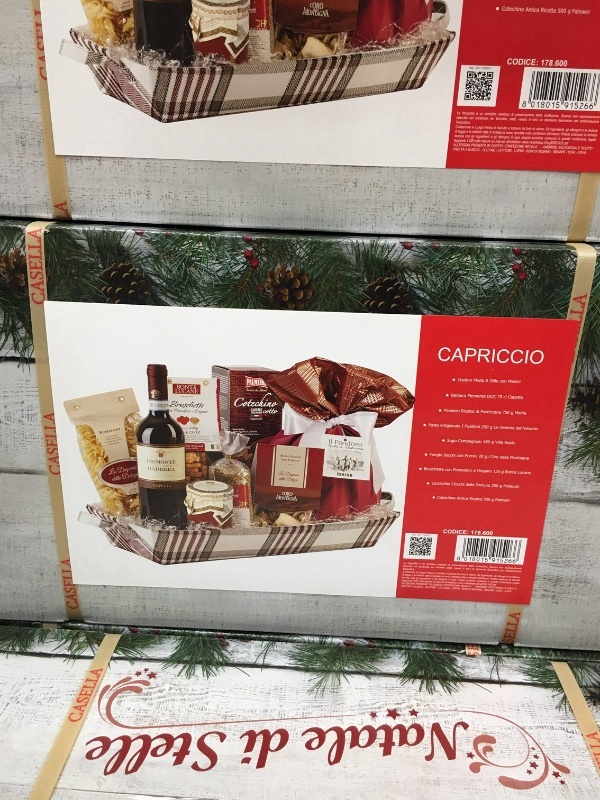text: (529, 370, 545, 506), (433, 370, 448, 506), (449, 370, 464, 506), (465, 370, 480, 506), (481, 370, 496, 506), (497, 370, 512, 506), (513, 370, 528, 506), (423, 370, 432, 506), (113, 425, 128, 498), (34, 7, 48, 83), (33, 227, 45, 312), (97, 730, 112, 798), (113, 730, 128, 798), (129, 730, 144, 798), (145, 730, 160, 798), (161, 730, 176, 798), (177, 730, 192, 798), (193, 730, 208, 798), (209, 730, 224, 798), (99, 425, 112, 498), (129, 425, 141, 498), (177, 400, 192, 456), (193, 400, 208, 456), (305, 723, 320, 779), (321, 723, 336, 779), (337, 723, 352, 779), (353, 723, 368, 779), (369, 723, 384, 779), (385, 723, 400, 779), (401, 723, 416, 779), (417, 723, 432, 779), (433, 723, 448, 779), (449, 723, 464, 779), (81, 668, 96, 723), (65, 558, 79, 612), (465, 109, 480, 158), (481, 109, 496, 158), (497, 109, 512, 158), (513, 109, 528, 158), (529, 109, 544, 158), (545, 109, 560, 158), (561, 109, 576, 158), (577, 109, 592, 158), (67, 668, 80, 723), (49, 413, 60, 476), (289, 449, 302, 502), (86, 730, 96, 798), (241, 731, 256, 776), (257, 731, 272, 776), (273, 731, 288, 776), (209, 400, 221, 456), (417, 561, 432, 595), (433, 561, 448, 595), (449, 561, 464, 595), (465, 561, 480, 595), (481, 561, 496, 595), (497, 561, 512, 595), (26, 227, 32, 312), (279, 449, 288, 502), (403, 561, 416, 595), (241, 408, 256, 436), (257, 408, 272, 436), (457, 109, 464, 158), (593, 109, 600, 158), (513, 561, 523, 595), (170, 400, 176, 456), (465, 723, 471, 779), (97, 668, 103, 723), (43, 413, 48, 476), (529, 348, 545, 366), (241, 389, 256, 408), (257, 389, 272, 408), (449, 348, 464, 366), (465, 348, 480, 366), (481, 348, 496, 366), (497, 348, 512, 366), (513, 348, 528, 366), (305, 1, 320, 19), (513, 612, 521, 645), (232, 408, 240, 436), (225, 730, 228, 798), (273, 408, 280, 436), (321, 1, 331, 19), (273, 389, 282, 408), (301, 723, 304, 779), (513, 56, 528, 67), (439, 348, 448, 366), (61, 558, 64, 612), (130, 483, 144, 494), (577, 101, 592, 111), (337, 439, 352, 448), (508, 612, 512, 645), (149, 402, 160, 413), (545, 101, 560, 109), (529, 56, 539, 67), (565, 101, 576, 111), (545, 60, 560, 67), (577, 8, 590, 16), (161, 402, 170, 413), (449, 529, 464, 535), (353, 439, 363, 448), (177, 389, 192, 395), (161, 459, 176, 465), (513, 5, 525, 12), (545, 7, 557, 14), (532, 101, 544, 108), (337, 472, 353, 477), (497, 559, 512, 564), (177, 385, 192, 390), (148, 459, 160, 465), (502, 5, 512, 12), (529, 6, 539, 13), (469, 557, 480, 563), (481, 531, 494, 536), (257, 379, 266, 386), (465, 557, 480, 561), (161, 467, 176, 471), (481, 66, 493, 71), (237, 389, 240, 408), (248, 379, 256, 386), (561, 60, 569, 67), (537, 101, 544, 109), (469, 66, 480, 71), (470, 531, 480, 536), (481, 557, 489, 563), (148, 467, 160, 471), (568, 10, 576, 16), (289, 731, 290, 776), (508, 56, 512, 67), (561, 8, 567, 15), (523, 100, 528, 108), (193, 389, 199, 395), (302, 1, 304, 19), (572, 8, 576, 16), (443, 529, 448, 535), (457, 557, 464, 561), (465, 529, 469, 535), (541, 7, 544, 14), (541, 60, 544, 67), (492, 559, 496, 564), (193, 385, 197, 390), (513, 559, 516, 564), (593, 101, 594, 111), (335, 439, 336, 448), (527, 6, 528, 13), (559, 8, 560, 15), (175, 389, 176, 395)
